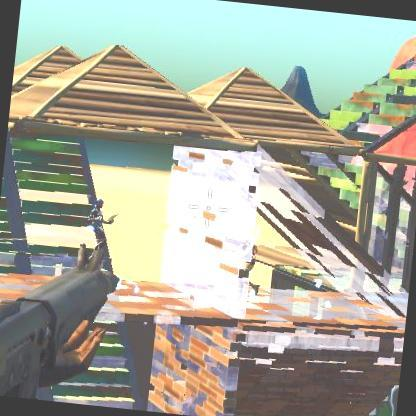person: (86, 198, 114, 257), (234, 232, 256, 288)
